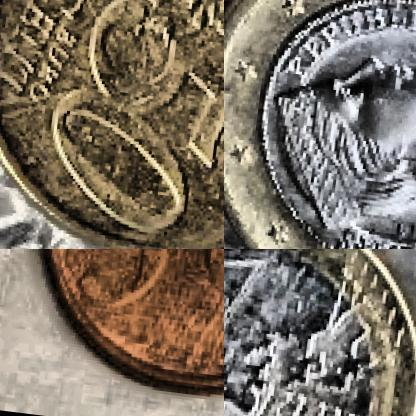coin: (0, 0, 223, 248), (224, 0, 415, 248), (22, 249, 223, 411), (224, 249, 415, 415)
